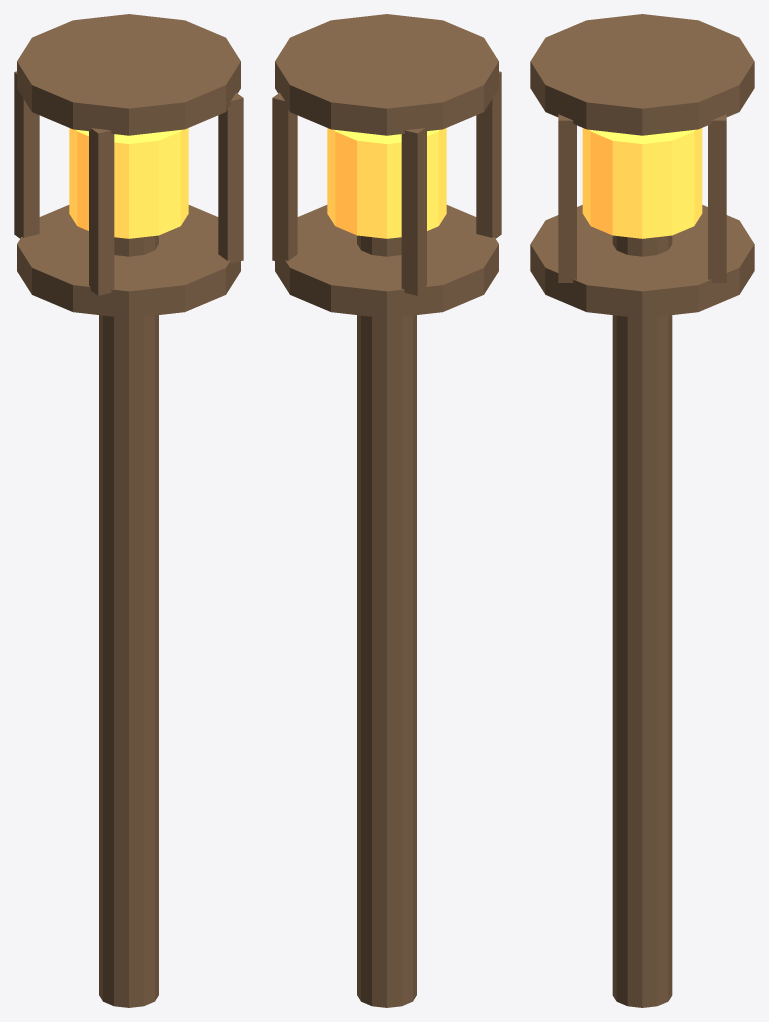
The model's file is lantern_blockout.glb.
3 renders of one model, left to right at view 1: azimuth 30°, elevation 25°; view 2: azimuth 150°, elevation 25°; view 3: azimuth 270°, elevation 25°, orthographic.
Parts seen in each view (by area): view 1: Lantern_Post, Lantern_Cap, Lantern_Base, Lantern_Core, Lantern_Rib.001, Lantern_Rib.003, Lantern_Rib; view 2: Lantern_Post, Lantern_Cap, Lantern_Base, Lantern_Core, Lantern_Rib, Lantern_Rib.002, Lantern_Rib.001; view 3: Lantern_Post, Lantern_Cap, Lantern_Base, Lantern_Core, Lantern_Rib.002, Lantern_Rib.003.
Boxes of the visible parts, <box> form: Lantern_Post: <box>99,235,158,1007</box>; Lantern_Cap: <box>17,14,240,135</box>; Lantern_Base: <box>17,205,240,318</box>; Lantern_Core: <box>69,128,188,238</box>; Lantern_Rib.001: <box>89,128,114,295</box>; Lantern_Rib.003: <box>218,92,243,263</box>; Lantern_Rib: <box>14,71,39,238</box>; Lantern_Post: <box>357,235,416,1007</box>; Lantern_Cap: <box>275,14,498,135</box>; Lantern_Base: <box>275,205,498,318</box>; Lantern_Core: <box>327,128,446,238</box>; Lantern_Rib: <box>401,128,426,295</box>; Lantern_Rib.002: <box>272,92,297,263</box>; Lantern_Rib.001: <box>476,71,501,238</box>; Lantern_Post: <box>612,235,672,1007</box>; Lantern_Cap: <box>530,14,754,135</box>; Lantern_Base: <box>530,205,754,318</box>; Lantern_Core: <box>582,128,702,238</box>; Lantern_Rib.002: <box>708,114,726,282</box>; Lantern_Rib.003: <box>558,114,576,282</box>.
Bounding box in the file's own units: 0.6 × 2.76 × 0.6.
